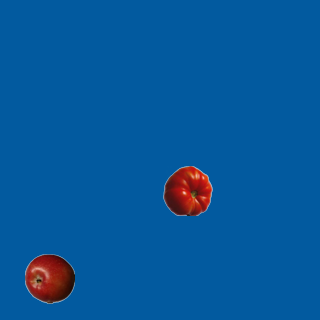Apple Braeburn: (24, 253, 74, 303)
Tomato 3: (162, 165, 212, 215)
